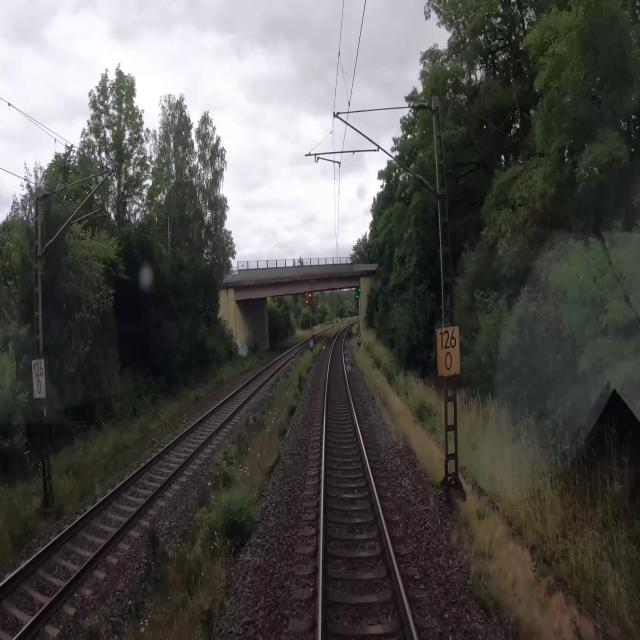Plant: (81, 340, 324, 639)
